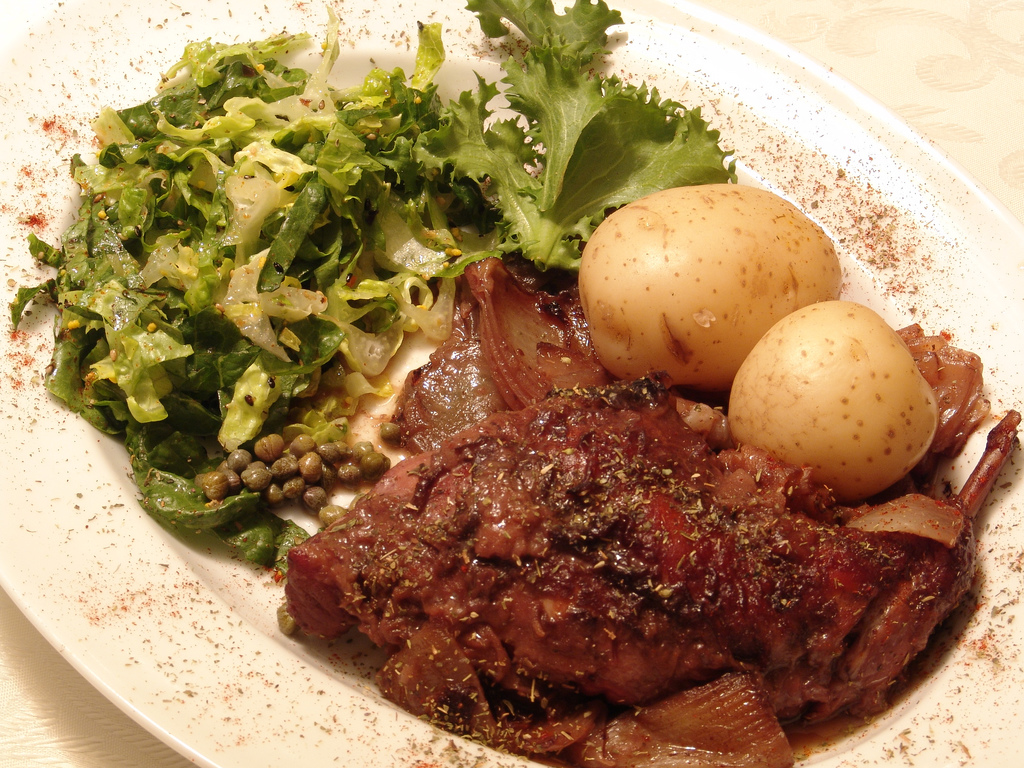boiled potatoes: (614, 199, 937, 468)
chopped lettuce: (168, 107, 391, 350)
